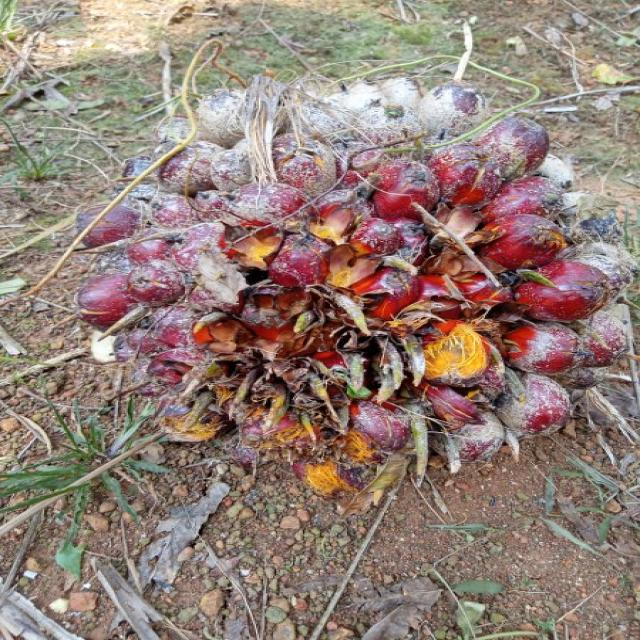fraksi 1: (61, 91, 604, 482)
